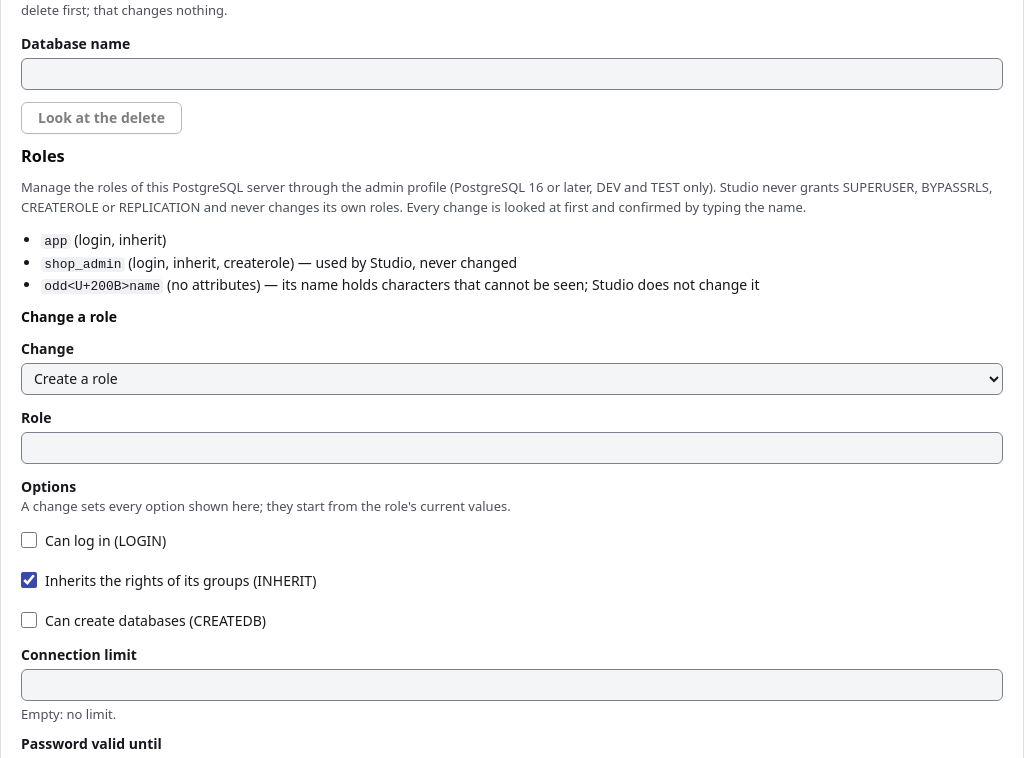
Test: the role management of the Database Manager (STU-XDM-4) › starts an alter from the role's current options
The width and height of the screenshot is (1024, 758).
(page scrolled)
Select "Change a role's options or password" in the dropdown with test id "database-manager-roles-action" at (512,379), box [21, 363, 1003, 395]
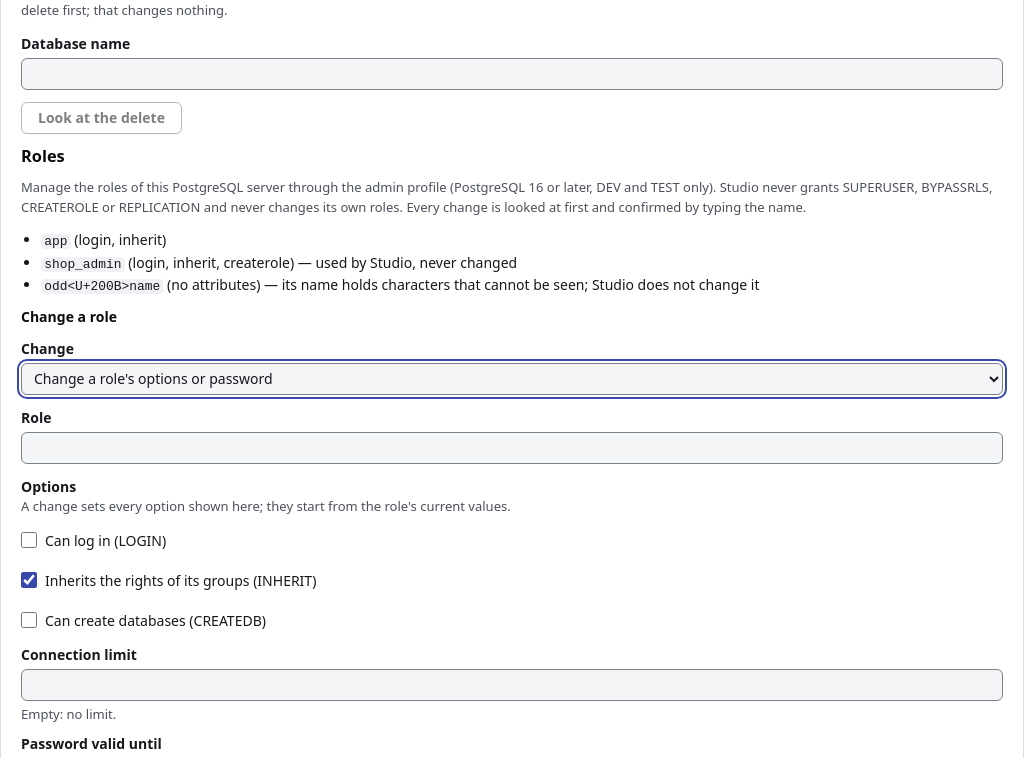
Type "app" into the field with test id "database-manager-roles-role" at (512,448), box [21, 432, 1003, 464]
(page scrolled)
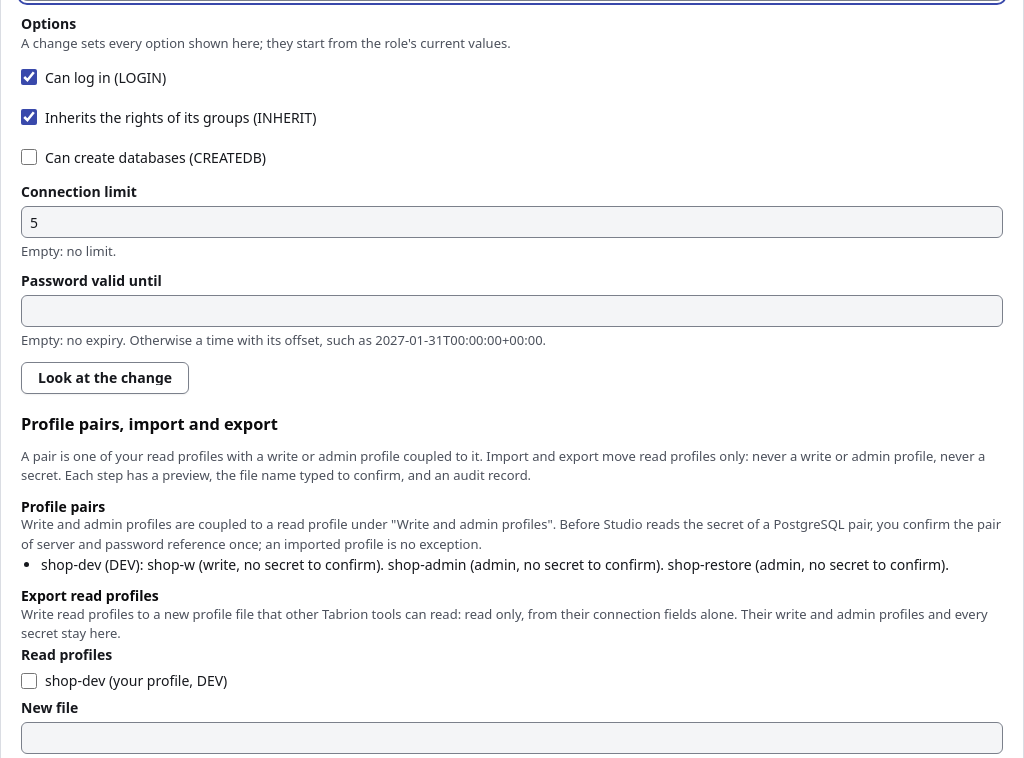
Expected: the checkbox with test id "database-manager-roles-login" is checked, [21, 69, 37, 85]
Expected: the field with test id "database-manager-roles-limit" holds "5", [21, 206, 1003, 238]
Click the button with test id "database-manager-roles-preview" at (105,378), box [21, 362, 189, 394]
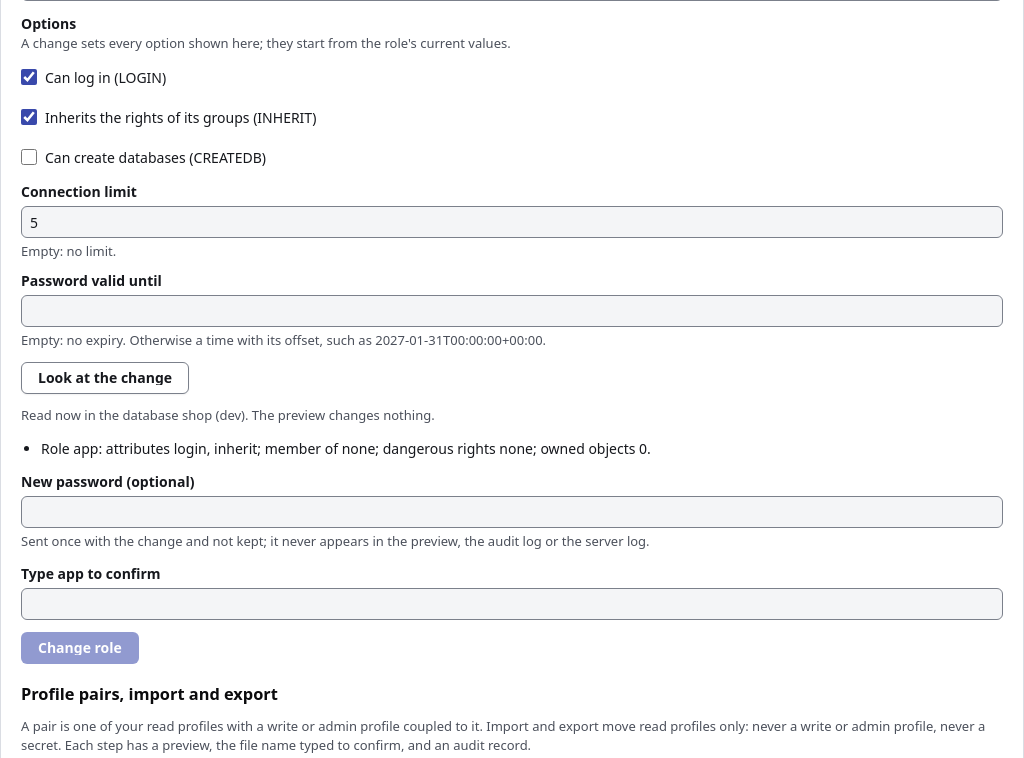
Expected: the form with test id "database-manager-roles-confirm" is shown, [21, 406, 1003, 664]
